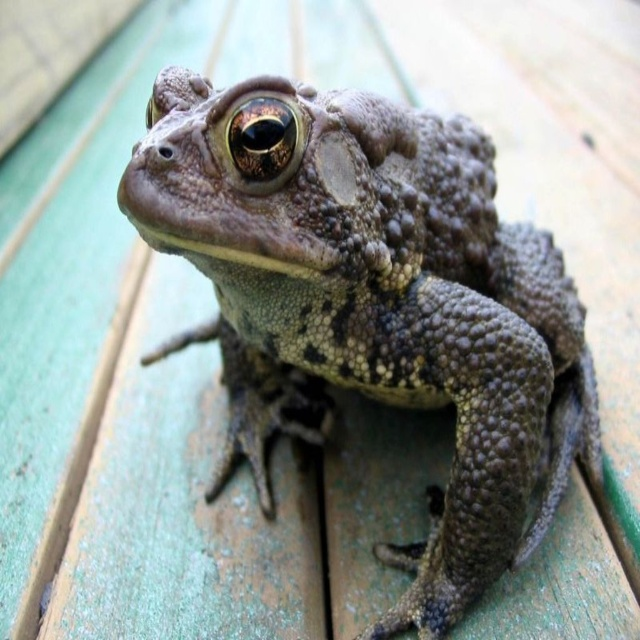Frog: (114, 68, 601, 639)
